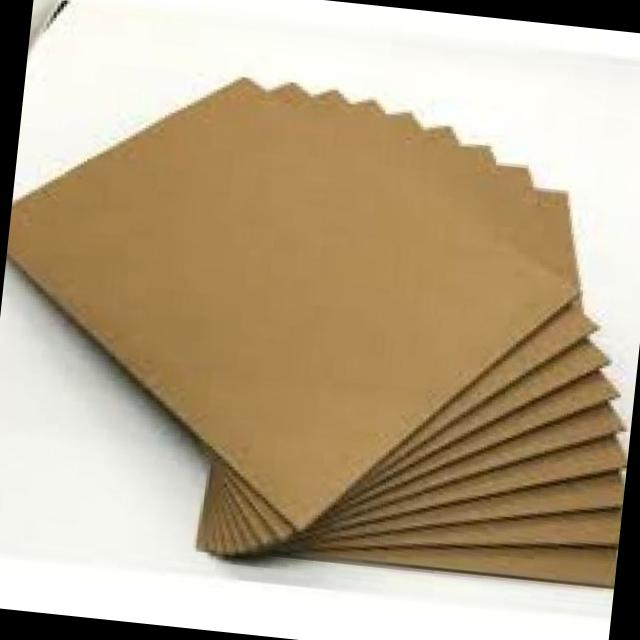cardboard paper: (6, 77, 627, 584)
